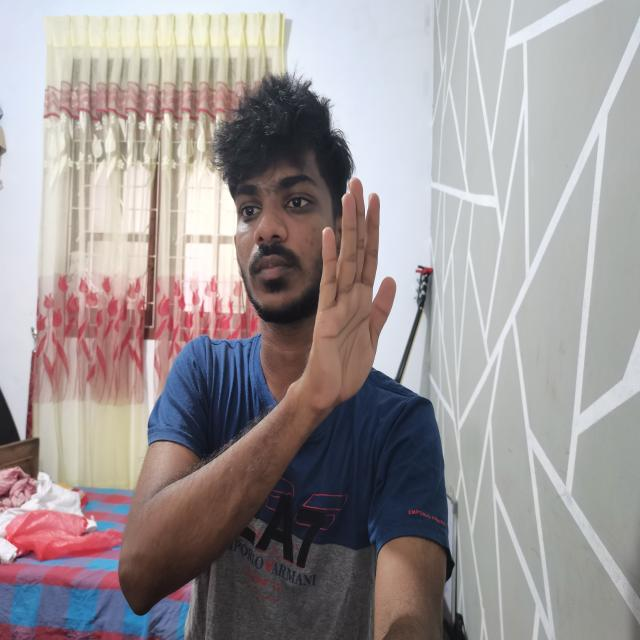Hello: (306, 165, 399, 415)
